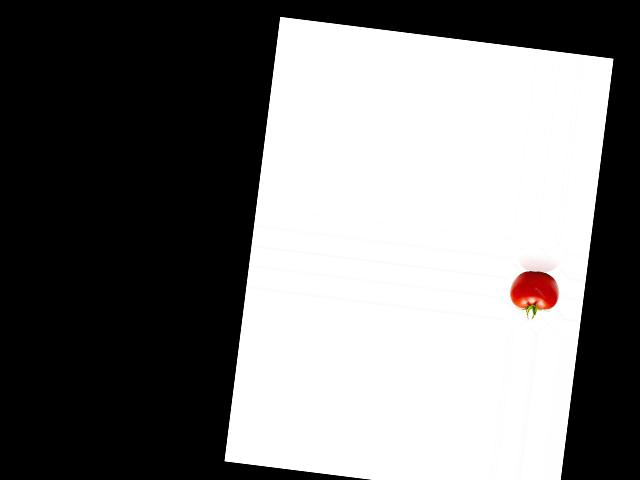tomato: (508, 268, 562, 312)
